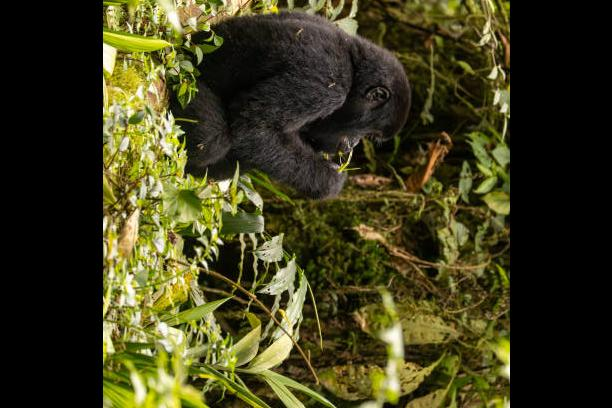goriile_montagne: (177, 0, 465, 240)
